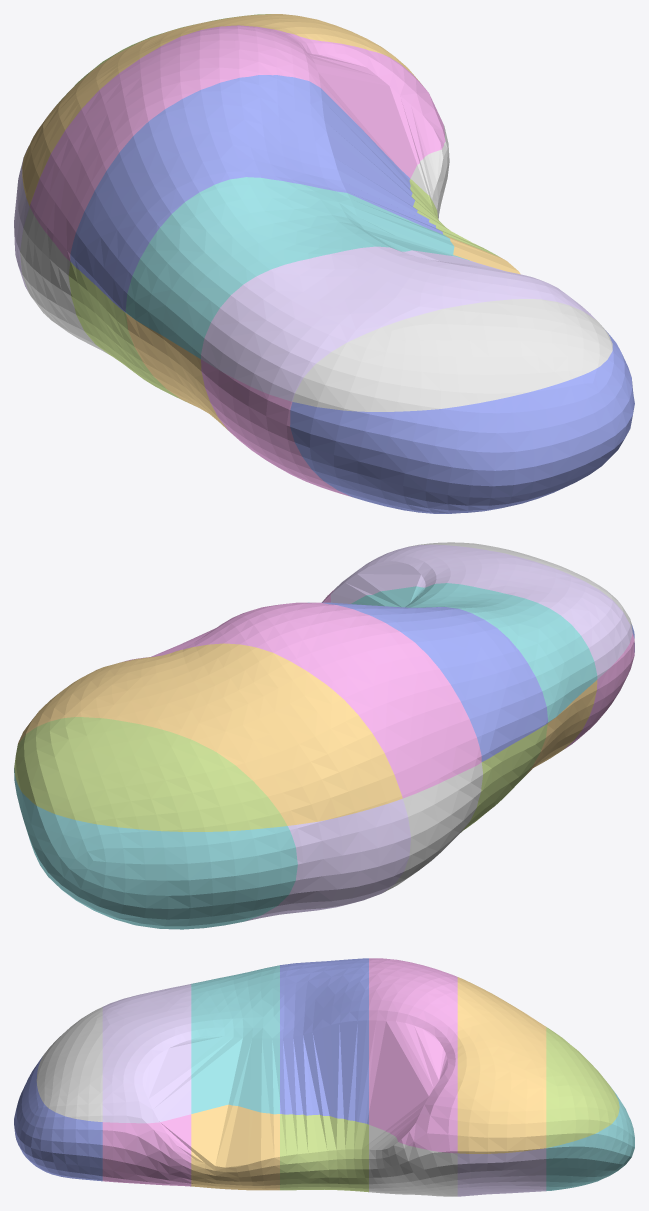
The model's file is sample kidney 4x7x2.fbx.
The picture shows the model from 3 angles, top to bottom: view 1: azimuth 30°, elevation 25°; view 2: azimuth 150°, elevation 25°; view 3: azimuth 270°, elevation 25°; orthographic projection. The views are drawn at different scales.
Visible parts, largest first — view 1: m_kidney_r_ob_A-3-II, m_kidney_r_ob_A-4-II, m_kidney_r_ob_B-1-I, m_kidney_r_ob_A-2-II, m_kidney_r_ob_B-1-II, m_kidney_r_ob_B-4-II, m_kidney_r_ob_A-5-II, m_kidney_r_ob_A-1-I, m_kidney_r_ob_C-1-I, m_kidney_r_ob_B-2-II, m_kidney_r_ob_C-1-II, m_kidney_r_ob_C-4-II (+18 smaller); view 2: m_kidney_r_ob_B-6-II, m_kidney_r_ob_A-5-II, m_kidney_r_ob_B-7-I, m_kidney_r_ob_A-4-II, m_kidney_r_ob_C-7-II, m_kidney_r_ob_A-6-I, m_kidney_r_ob_A-6-II, m_kidney_r_ob_C-7-I, m_kidney_r_ob_C-6-II, m_kidney_r_ob_B-7-II, m_kidney_r_ob_B-5-II, m_kidney_r_ob_A-3-II (+15 smaller); view 3: m_kidney_r_ob_C-4-II, m_kidney_r_ob_D-6-II, m_kidney_r_ob_C-5-II, m_kidney_r_ob_D-5-II, m_kidney_r_ob_C-2-II, m_kidney_r_ob_D-4-I, m_kidney_r_ob_C-3-II, m_kidney_r_ob_D-2-I, m_kidney_r_ob_D-3-I, m_kidney_r_ob_B-3-II, m_kidney_r_ob_B-4-II, m_kidney_r_ob_D-5-I (+20 smaller).
Boxes of the visible parts, left/top/right/bottom form: m_kidney_r_ob_A-3-II: left=125, top=178, right=301, bottom=358; m_kidney_r_ob_A-4-II: left=70, top=106, right=235, bottom=312; m_kidney_r_ob_B-1-I: left=379, top=392, right=545, bottom=513; m_kidney_r_ob_A-2-II: left=201, top=260, right=368, bottom=401; m_kidney_r_ob_B-1-II: left=369, top=302, right=528, bottom=411; m_kidney_r_ob_B-4-II: left=170, top=75, right=346, bottom=192; m_kidney_r_ob_A-5-II: left=29, top=86, right=169, bottom=260; m_kidney_r_ob_A-1-I: left=290, top=402, right=415, bottom=505; m_kidney_r_ob_C-1-I: left=529, top=346, right=633, bottom=500; m_kidney_r_ob_B-2-II: left=303, top=246, right=478, bottom=332; m_kidney_r_ob_C-1-II: left=480, top=299, right=612, bottom=392; m_kidney_r_ob_C-4-II: left=280, top=75, right=443, bottom=234; m_kidney_r_ob_B-6-II: left=188, top=645, right=339, bottom=817; m_kidney_r_ob_A-5-II: left=340, top=630, right=481, bottom=798; m_kidney_r_ob_B-7-I: left=140, top=827, right=282, bottom=929; m_kidney_r_ob_A-4-II: left=397, top=608, right=547, bottom=761; m_kidney_r_ob_C-7-II: left=49, top=717, right=188, bottom=830; m_kidney_r_ob_A-6-I: left=283, top=798, right=410, bottom=911; m_kidney_r_ob_A-6-II: left=283, top=696, right=402, bottom=825; m_kidney_r_ob_C-7-I: left=42, top=812, right=158, bottom=928; m_kidney_r_ob_C-6-II: left=94, top=643, right=244, bottom=738; m_kidney_r_ob_B-7-II: left=150, top=738, right=282, bottom=831; m_kidney_r_ob_B-5-II: left=245, top=602, right=396, bottom=695; m_kidney_r_ob_A-3-II: left=454, top=595, right=597, bottom=722; m_kidney_r_ob_C-4-II: left=280, top=992, right=368, bottom=1117; m_kidney_r_ob_D-6-II: left=457, top=1054, right=546, bottom=1153; m_kidney_r_ob_C-5-II: left=369, top=984, right=457, bottom=1101; m_kidney_r_ob_D-5-II: left=369, top=1056, right=457, bottom=1153; m_kidney_r_ob_C-2-II: left=102, top=1040, right=191, bottom=1117; m_kidney_r_ob_D-4-I: left=280, top=1118, right=368, bottom=1191; m_kidney_r_ob_C-3-II: left=191, top=1038, right=279, bottom=1114; m_kidney_r_ob_D-2-I: left=102, top=1118, right=191, bottom=1185; m_kidney_r_ob_D-3-I: left=191, top=1123, right=279, bottom=1189; m_kidney_r_ob_B-3-II: left=191, top=974, right=279, bottom=1049; m_kidney_r_ob_B-4-II: left=280, top=958, right=368, bottom=1037; m_kidney_r_ob_D-5-I: left=369, top=1125, right=457, bottom=1195.
Size of the model in its own units: 6840 by 4376 by 12467.
